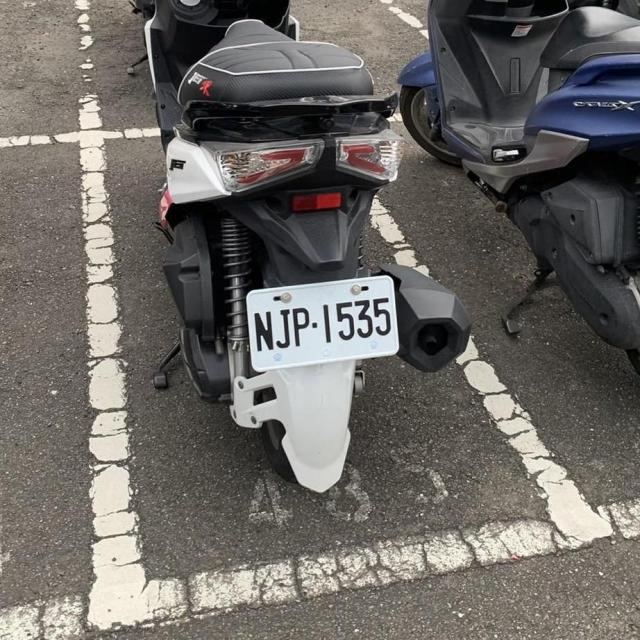W: (244, 274, 403, 374)
